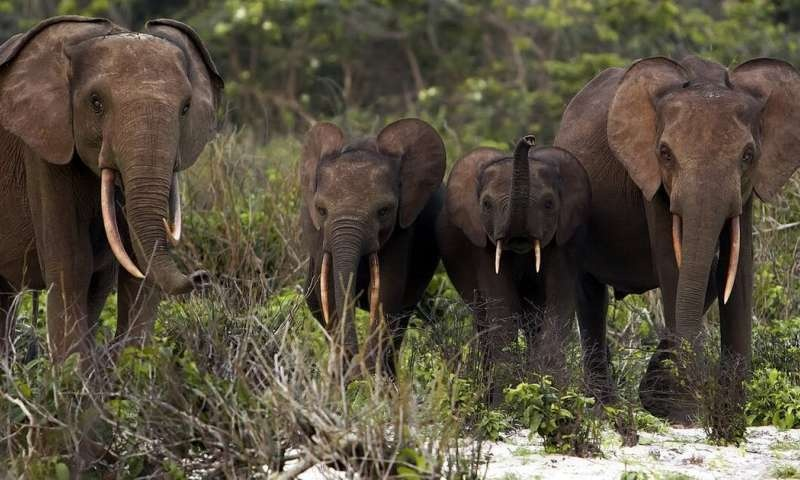elephant: (548, 59, 795, 422), (1, 16, 223, 369), (292, 116, 458, 395), (429, 133, 592, 391)
